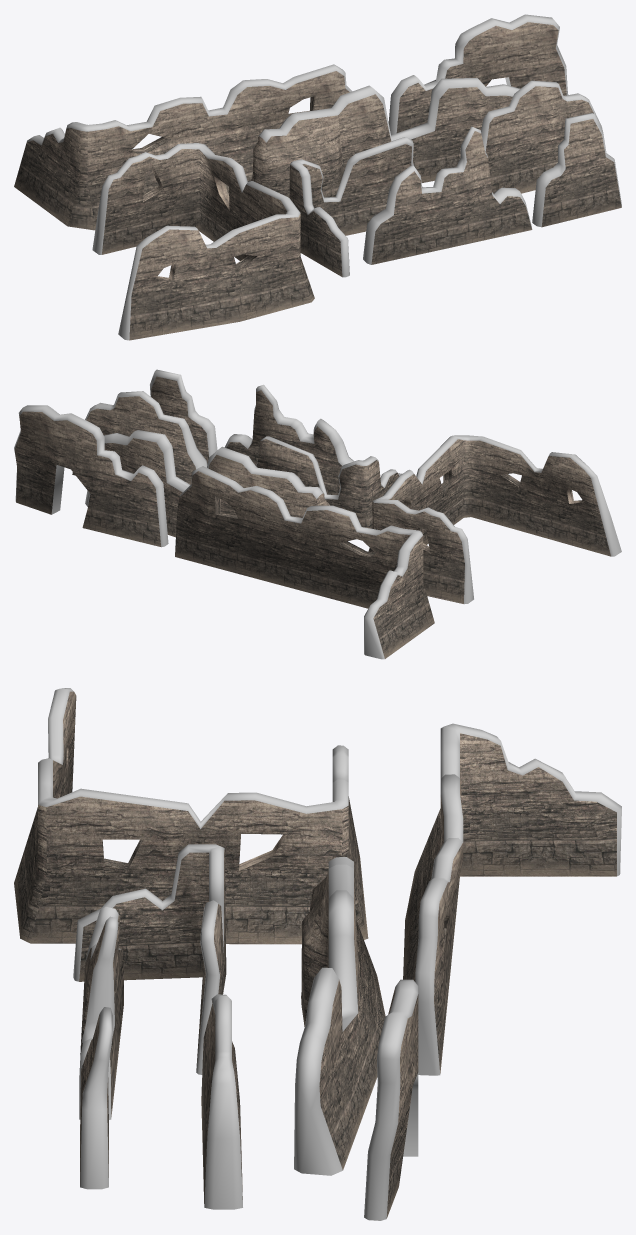
Rendered from ancient_ruins_01.FBX.
The picture shows the model from 3 angles, top to bottom: view 1: azimuth 30°, elevation 25°; view 2: azimuth 150°, elevation 25°; view 3: azimuth 270°, elevation 25°; orthographic projection. The views are drawn at different scales.
Parts seen in each view (by area): view 1: Object007, Object002, Object012, Object001, Object015, Object008, Object011; view 2: Object002, Object007, Object015, Object012, Object001, Object008, Object011; view 3: Object007, Object002, Object001, Object008, Object012, Object015, Object011.
Boxes of the visible parts, left/top/right/bottom form: Object007: left=92, top=143, right=314, bottom=340; Object002: left=14, top=64, right=352, bottom=230; Object012: left=363, top=113, right=621, bottom=264; Object001: left=251, top=78, right=520, bottom=197; Object015: left=388, top=14, right=568, bottom=135; Object008: left=289, top=137, right=422, bottom=277; Object011: left=481, top=80, right=602, bottom=193; Object002: left=175, top=466, right=434, bottom=659; Object007: left=368, top=435, right=621, bottom=604; Object015: left=14, top=405, right=168, bottom=547; Object012: left=150, top=369, right=354, bottom=494; Object001: left=85, top=430, right=329, bottom=537; Object008: left=256, top=436, right=402, bottom=540; Object011: left=72, top=391, right=207, bottom=484; Object007: left=14, top=688, right=368, bottom=944; Object002: left=403, top=723, right=621, bottom=1075; Object001: left=294, top=857, right=385, bottom=1175; Object008: left=73, top=844, right=226, bottom=1074; Object012: left=79, top=907, right=123, bottom=1189; Object015: left=364, top=979, right=418, bottom=1220; Object011: left=201, top=994, right=242, bottom=1209.
Bounding box in the file's own units: 1818 × 1119 × 366.
